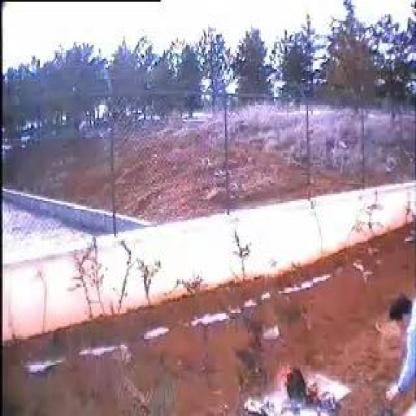foggia-v2-map80-epoch100 - v1 4323: (307, 382, 325, 400)
